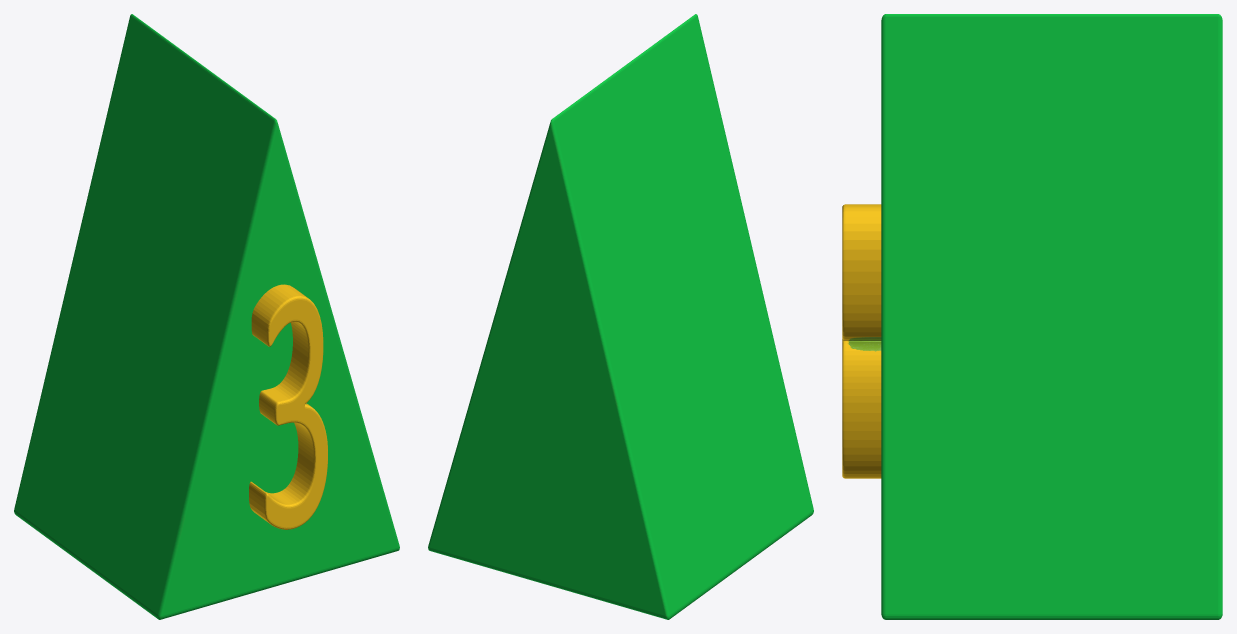
File: triangle3.glb
3 renders of one model, left to right at view 1: azimuth 30°, elevation 25°; view 2: azimuth 150°, elevation 25°; view 3: azimuth 270°, elevation 25°, orthographic. The views are drawn at different scales.
Bounding box in the file's own units: 2.3 × 4.3 × 2.7.
2 materials, 2 textured.
